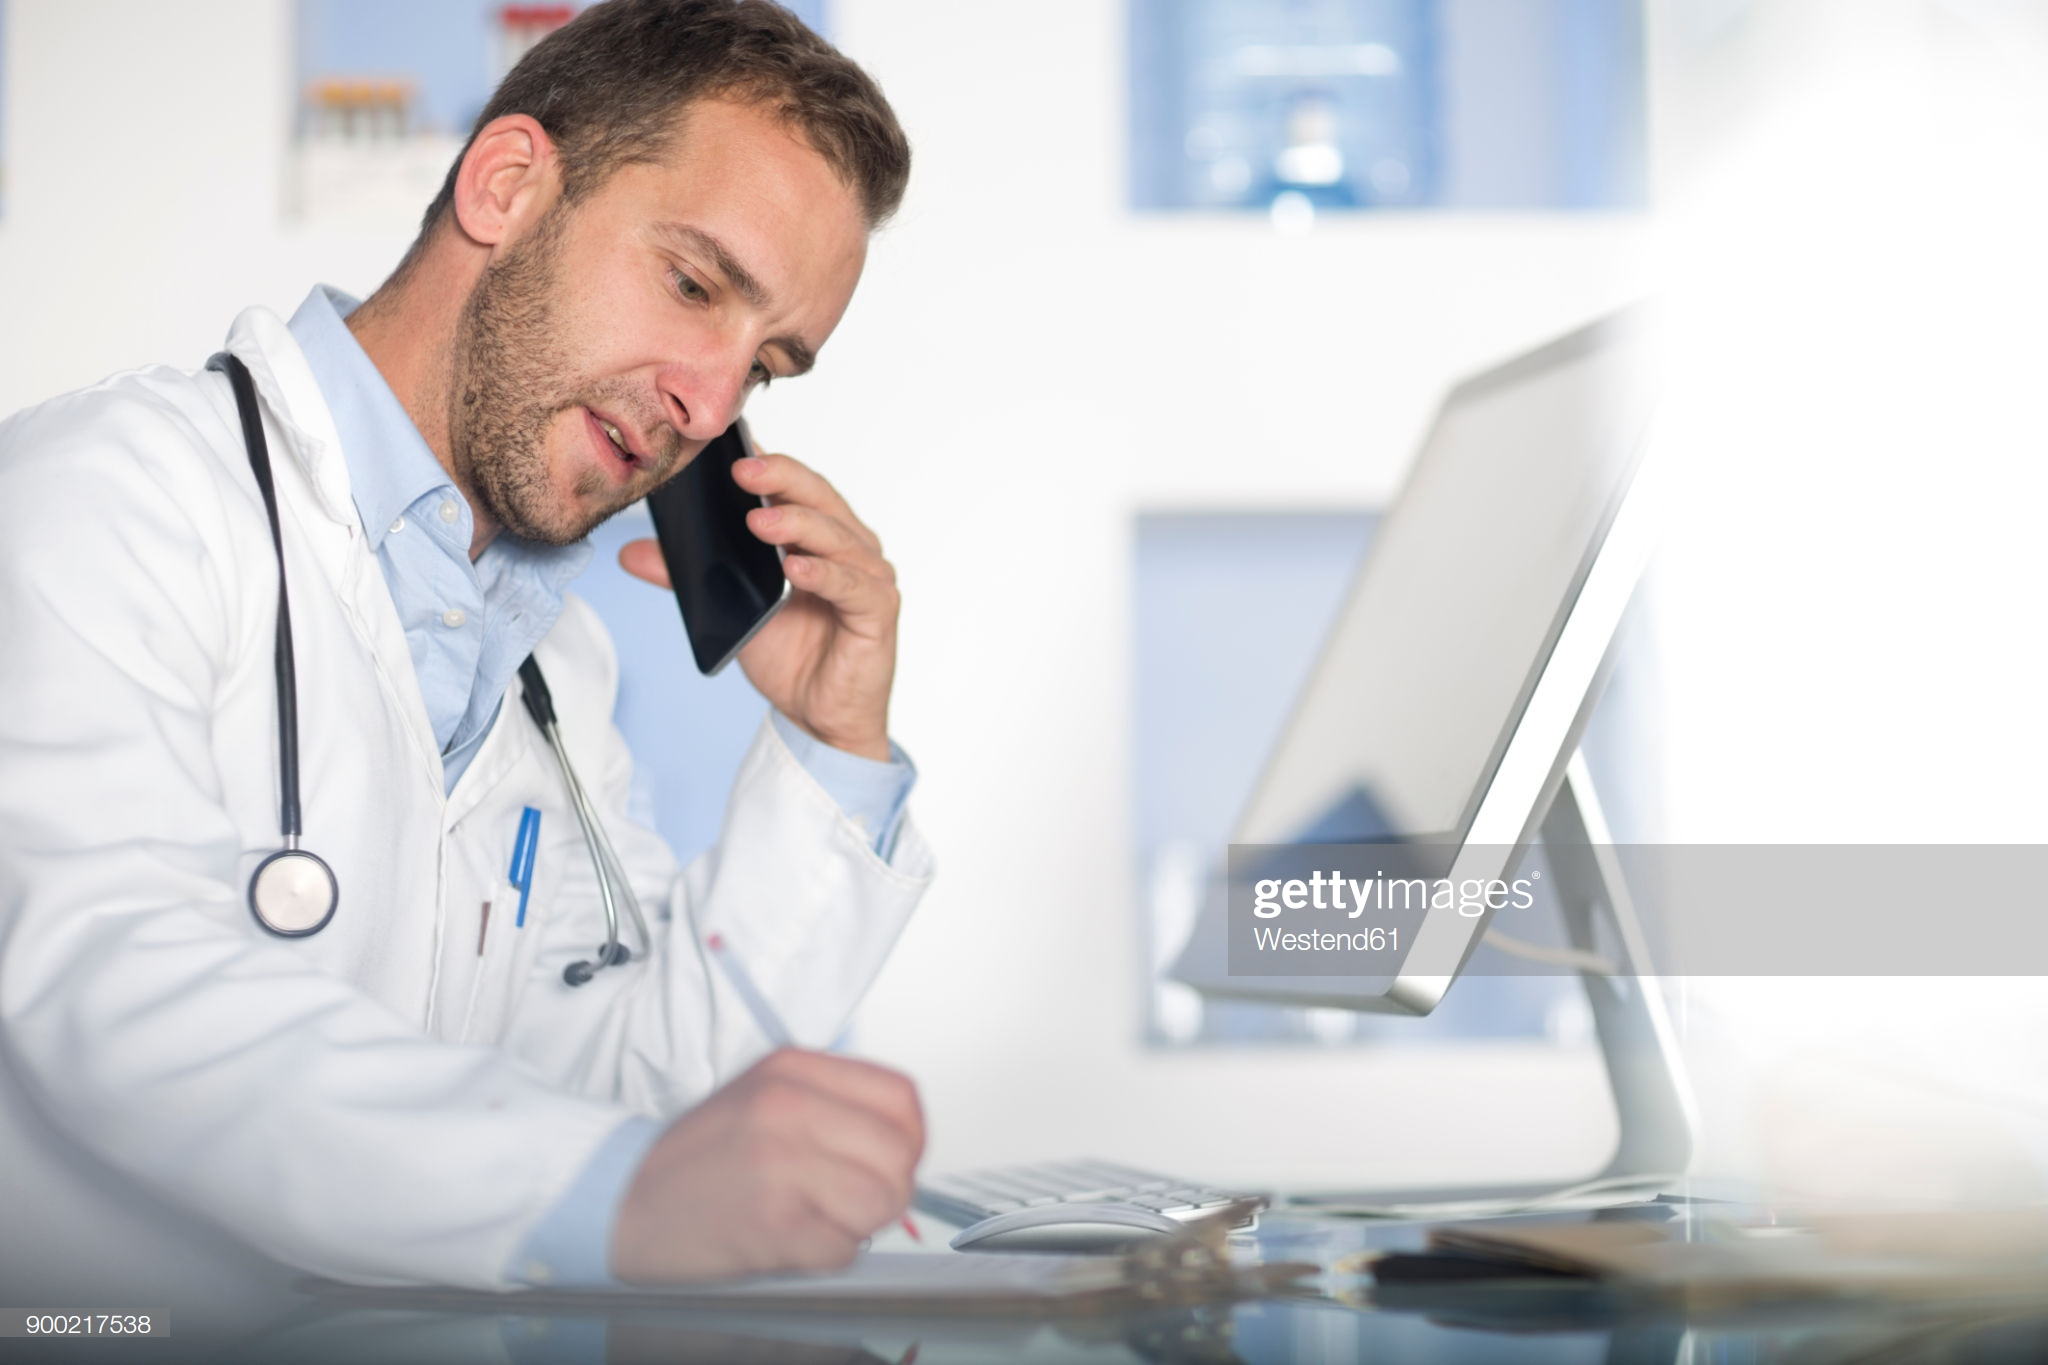phone: (640, 433, 897, 724)
talk: (506, 193, 927, 730)
